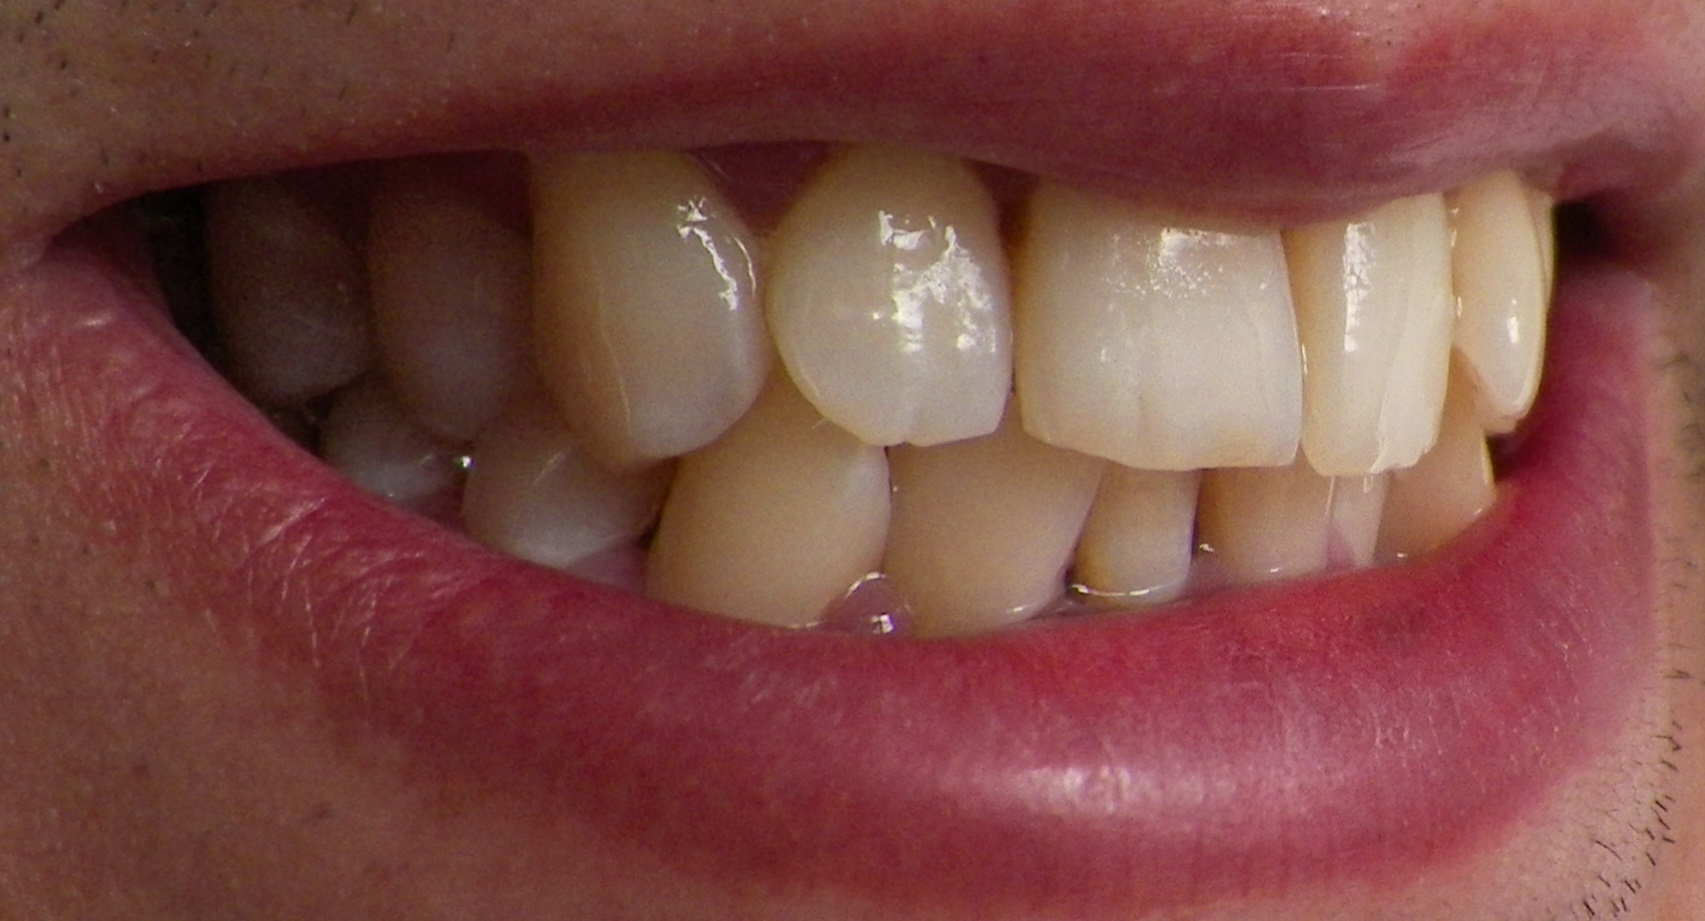boca: (217, 146, 1554, 626)
